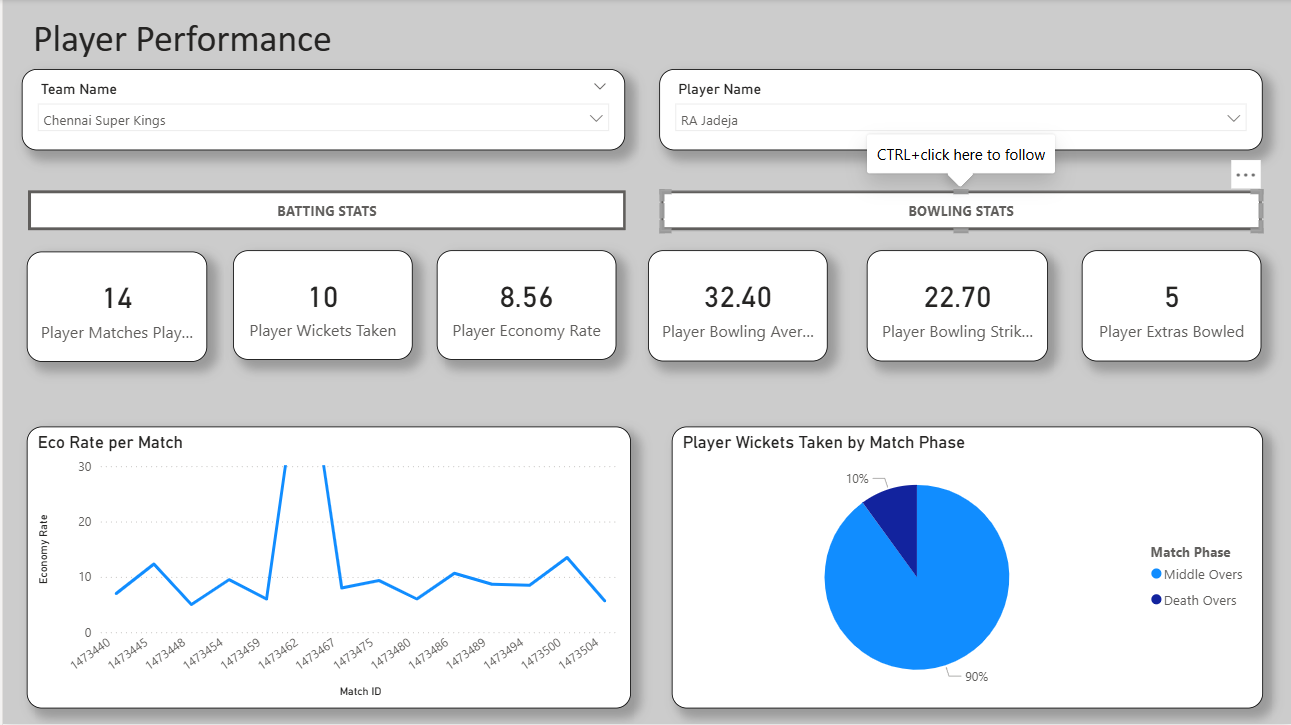

The dashboard page shown, as its layout file describes it:
{"tool":"powerbi","page":{"name":"Player","canvas":[1280,720],"ordinal":1},"visuals":[{"type":"slicer","title":"Team Name","fields":{"Values":["Teams.Team_Name"]},"box":[19.1,69.2,599,81.1],"z":0},{"type":"card","fields":{"Values":["_Key Measures.Player Economy Rate"]},"box":[431,250,178,109],"z":1000},{"type":"card","fields":{"Values":["_Key Measures.Player Wickets Taken"]},"box":[229,250,178,109],"z":2000},{"type":"card","fields":{"Values":["_Key Measures.Player Matches Played"]},"box":[23.9,250.6,179,109.8],"z":3000},{"type":"textbox","box":[24.2,11.4,383.4,58.4],"z":9000},{"type":"slicer","title":"Team Name","fields":{"Values":["Players.Player_Name"]},"box":[651.5,69.2,599,81.1],"z":10000},{"type":"card","fields":{"Values":["_Key Measures.Player Bowling Average"]},"box":[640,250,178.3,110],"z":14000},{"type":"card","fields":{"Values":["_Key Measures.Player Bowling Strike Rate"]},"box":[858.3,250,180,110],"z":15000},{"type":"card","fields":{"Values":["_Key Measures.Player Extras Bowled"]},"box":[1071.7,250,178.3,110],"z":16000},{"type":"lineChart","title":"Eco Rate per Match","fields":{"Category":["Deliveries.Match_ID"],"Y":["_Key Measures.Player Economy Rate"]},"box":[24.1,424.7,599.6,279.9],"z":16001},{"type":"pieChart","fields":{"Category":["Deliveries.Match Phase"],"Y":["_Key Measures.Player Wickets Taken"]},"box":[663.5,424.7,587.5,279.9],"z":16002},{"type":"actionButton","box":[24.2,190.5,593.9,39.8],"z":16003},{"type":"actionButton","box":[652.8,190.5,597.4,39.8],"z":16005}]}

Visuals, with their boxes in screenshot pixels (x1, y1, x2, y2), scaled from the page's 1280x720 canvas onto the 1291x725 screenshot:
"Team Name" slicer: left=19, top=70, right=623, bottom=151
card - _Key Measures.Player Economy Rate: left=435, top=252, right=614, bottom=361
card - _Key Measures.Player Wickets Taken: left=231, top=252, right=410, bottom=361
card - _Key Measures.Player Matches Played: left=24, top=252, right=205, bottom=363
textbox: left=24, top=11, right=411, bottom=70
"Team Name" slicer: left=657, top=70, right=1261, bottom=151
card - _Key Measures.Player Bowling Average: left=646, top=252, right=825, bottom=362
card - _Key Measures.Player Bowling Strike Rate: left=866, top=252, right=1047, bottom=362
card - _Key Measures.Player Extras Bowled: left=1081, top=252, right=1261, bottom=362
"Eco Rate per Match" lineChart: left=24, top=428, right=629, bottom=709
pieChart - Deliveries.Match Phase x _Key Measures.Player Wickets Taken: left=669, top=428, right=1262, bottom=709
actionButton: left=24, top=192, right=623, bottom=232
actionButton: left=658, top=192, right=1261, bottom=232
